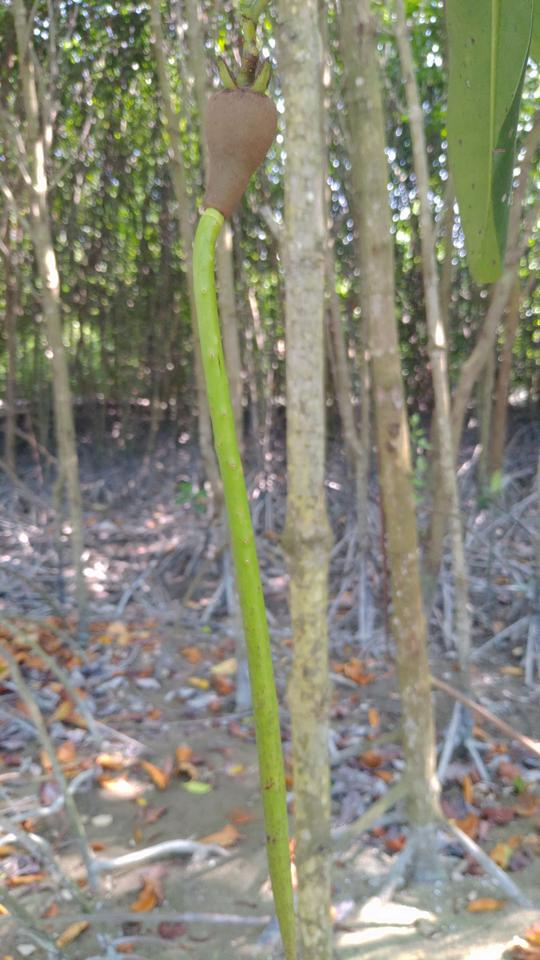setengah matang: (182, 48, 320, 958)
